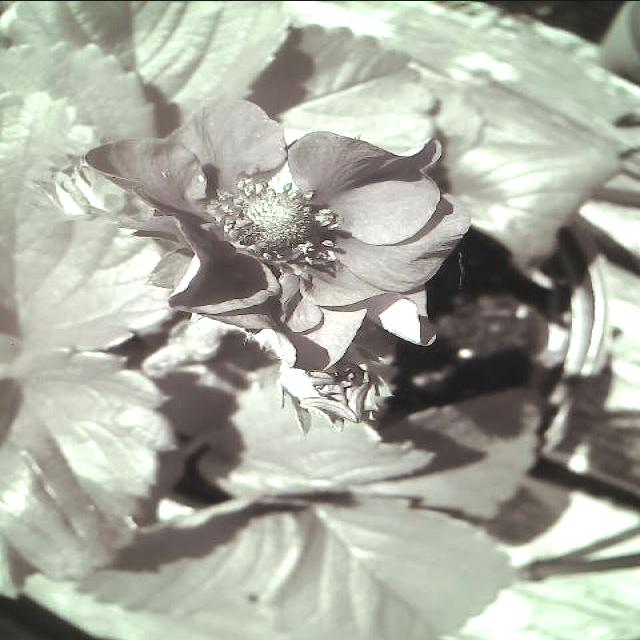flower: (81, 96, 472, 375)
